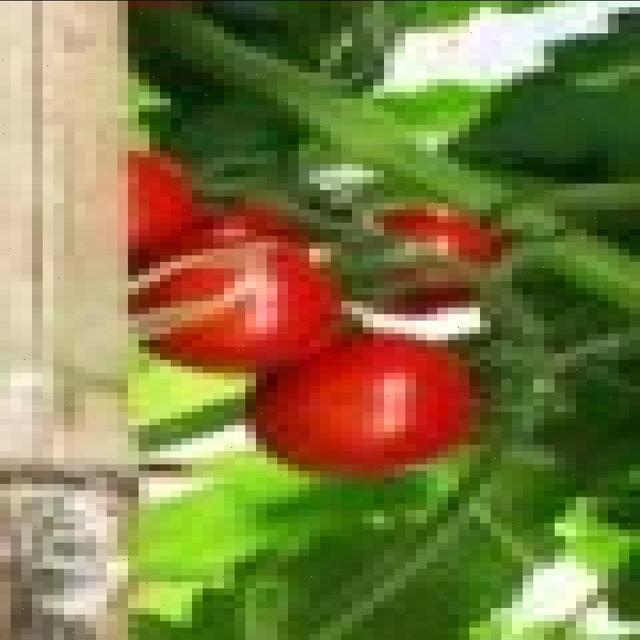Healthy Fruit: (123, 91, 243, 271)
